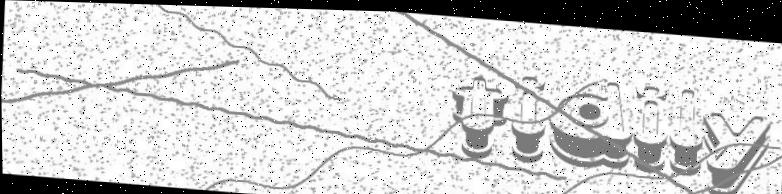d: (542, 66, 635, 167)
i: (505, 69, 551, 164), (630, 73, 671, 171)
l: (669, 79, 705, 173)
t: (448, 70, 510, 158)
y: (697, 102, 774, 194)
